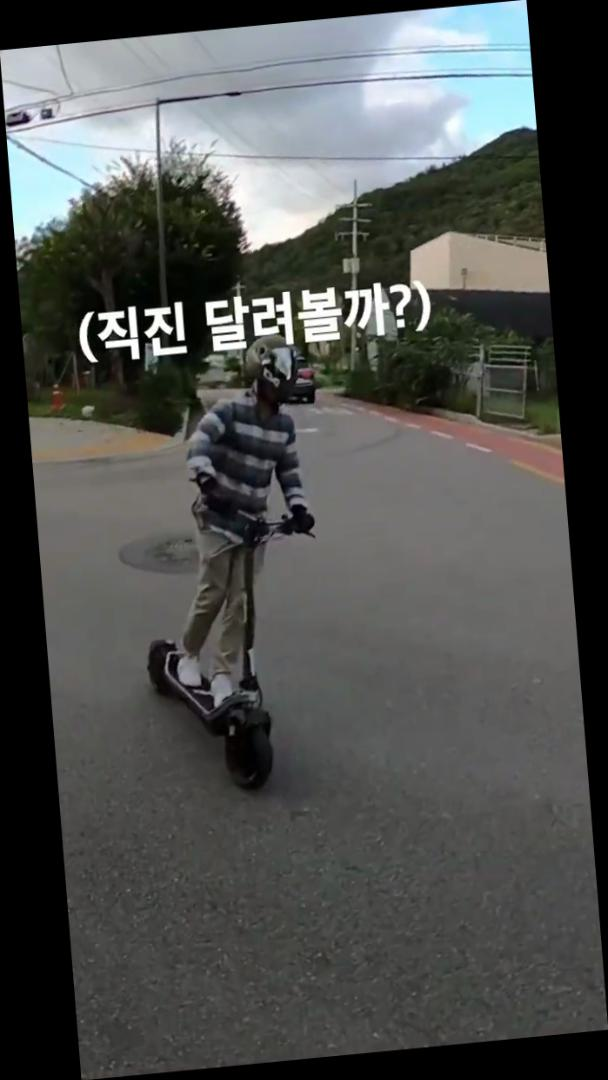helmet: (119, 331, 337, 803)
